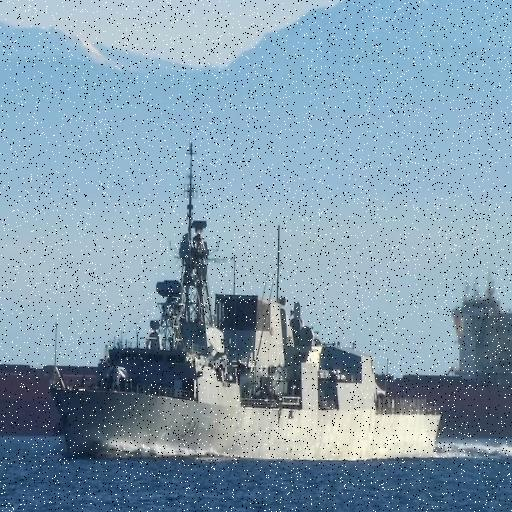Fragata: (49, 137, 444, 460)
